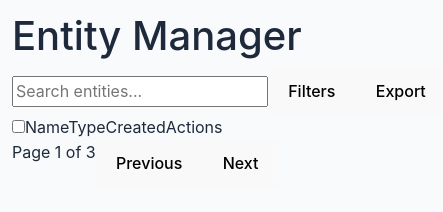
EntityManager Component › supports advanced filtering
Click the button "Filters" at point(312, 91), box [268,68,356,115]
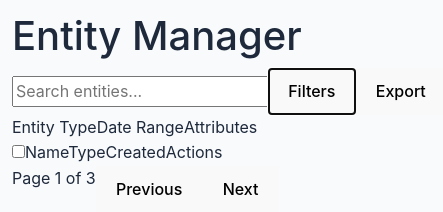
Result: the text "Entity Type" is shown at [12,115,97,140]
Result: the text "Date Range" is shown at [97,115,184,140]
Result: the text "Attributes" is shown at [184,115,257,140]
